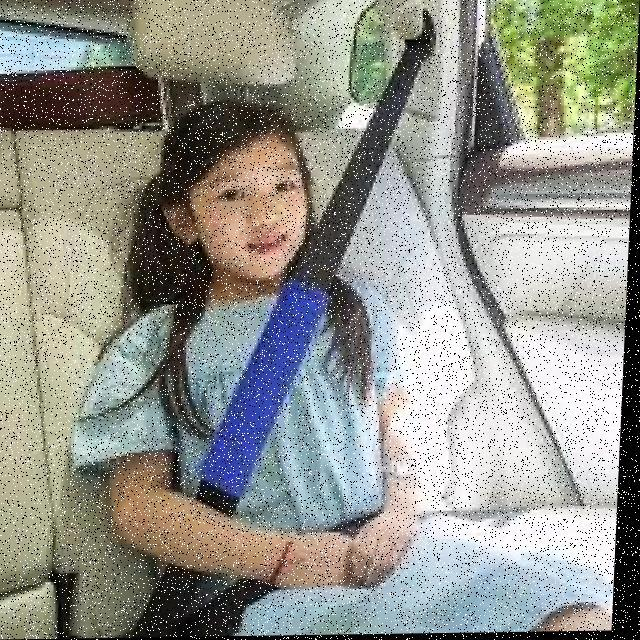seatbelt: (148, 203, 414, 588)
